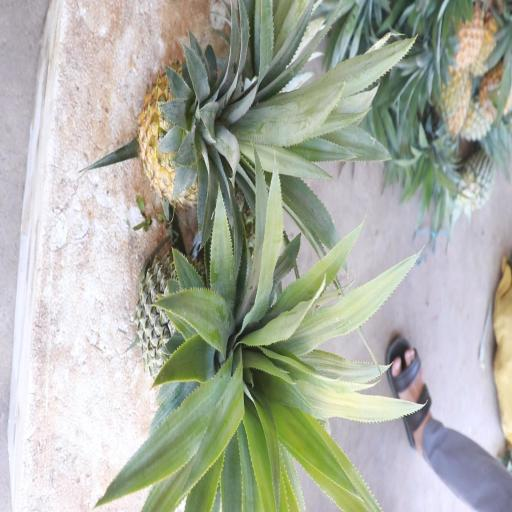Pineapple - v8 v1: (132, 44, 309, 212)
